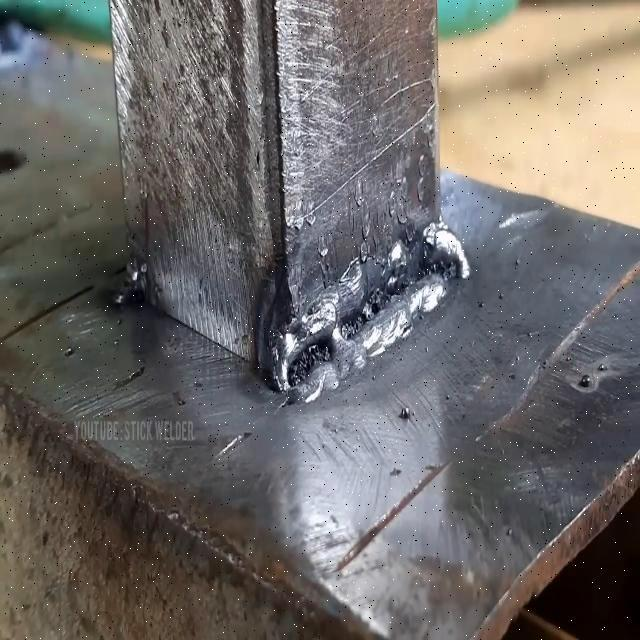Bad Welding: (276, 218, 470, 404)
Porosity: (288, 338, 336, 390), (339, 310, 368, 332), (363, 294, 384, 318)
